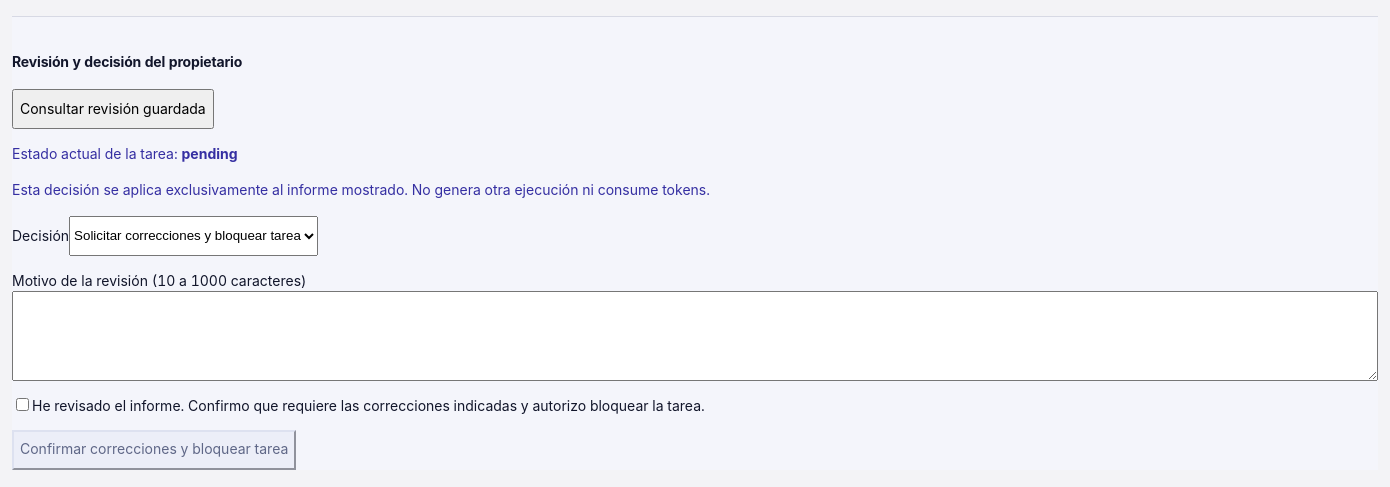
Test case: document work review › records an explicit decision and blocks double clicks (accept=false)
Type "Revisado el alcance y las conclusiones del informe" into the text box.
click(695, 336); type("Revisado el alcance y las conclusiones del informe")  # box 12,291 -> 1378,381
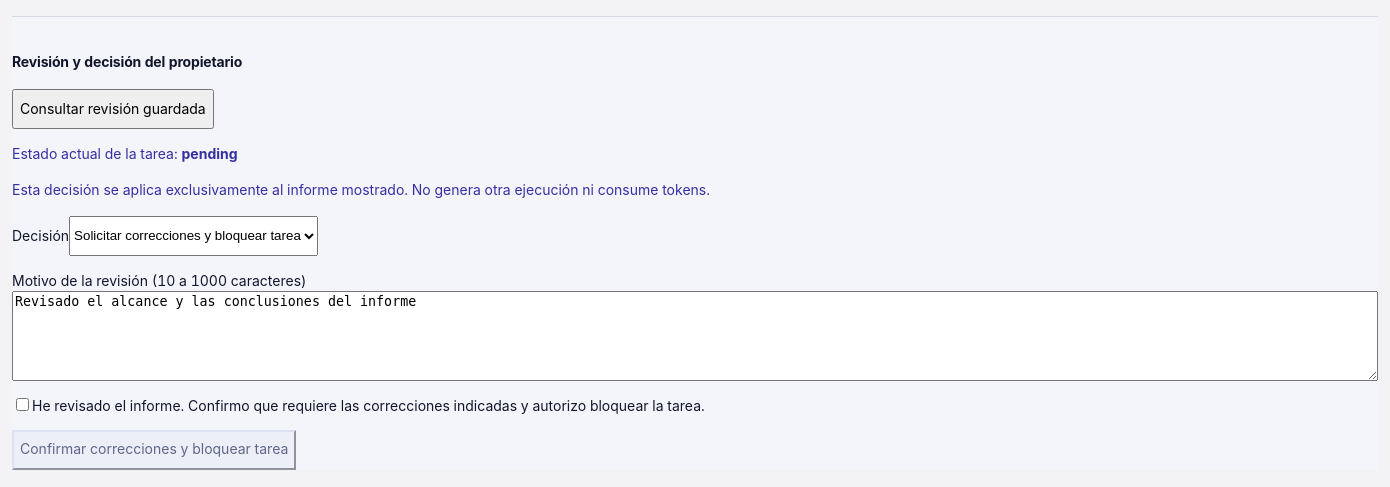
Click the checkbox.
click(22, 404)  # box 16,398 -> 29,411
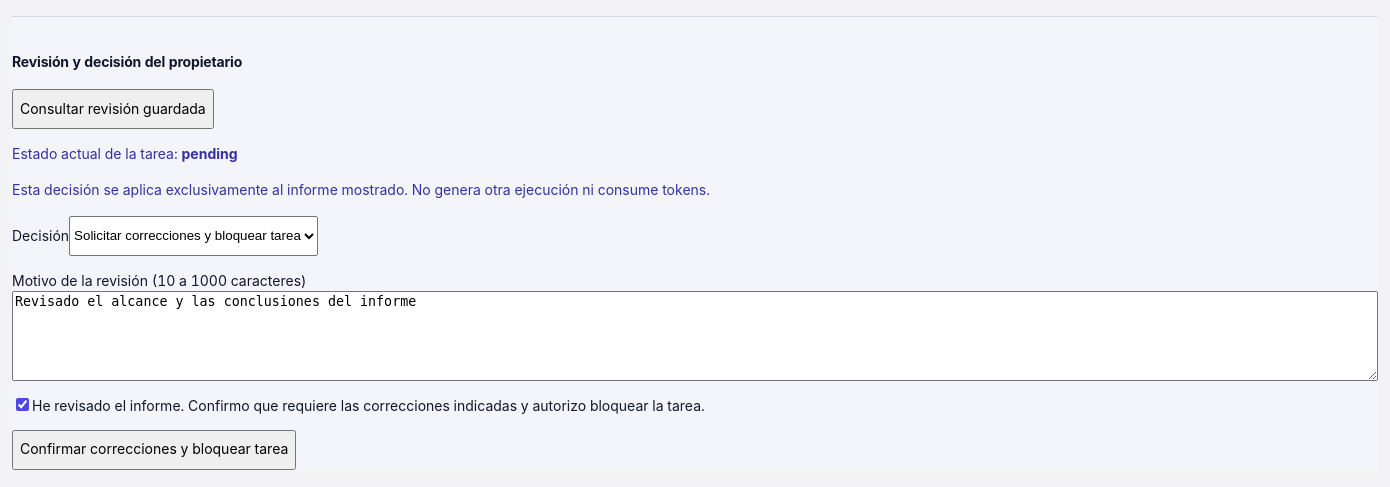
Click the button "Confirmar correcciones y bloquear tarea".
click(154, 450)  # box 12,430 -> 296,470
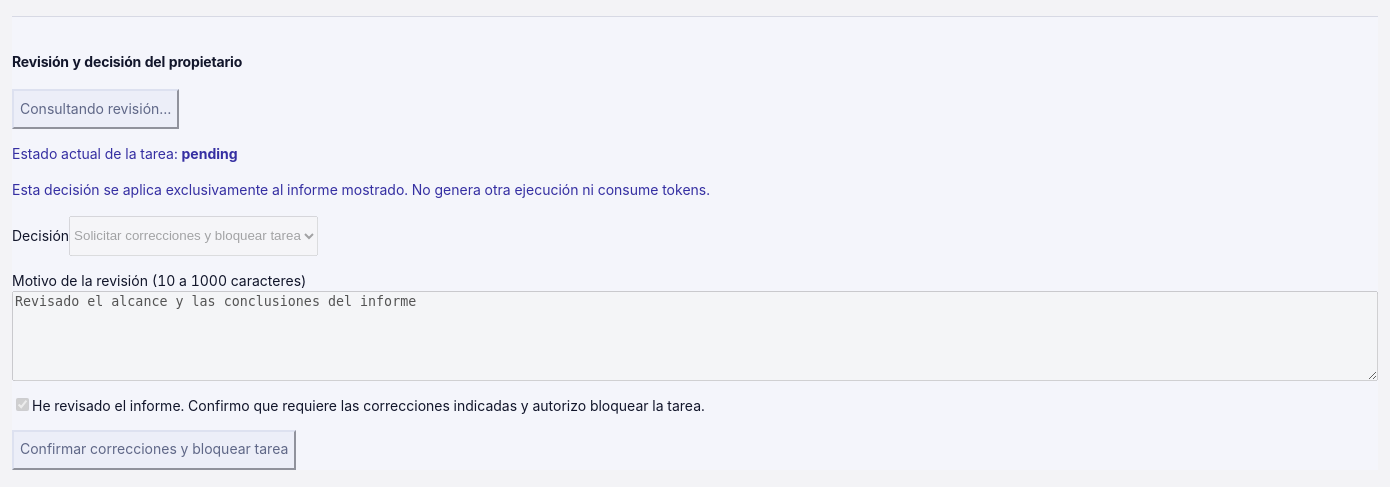
Click the button "Confirmar correcciones y bloquear tarea".
click(154, 450)  # box 12,430 -> 296,470
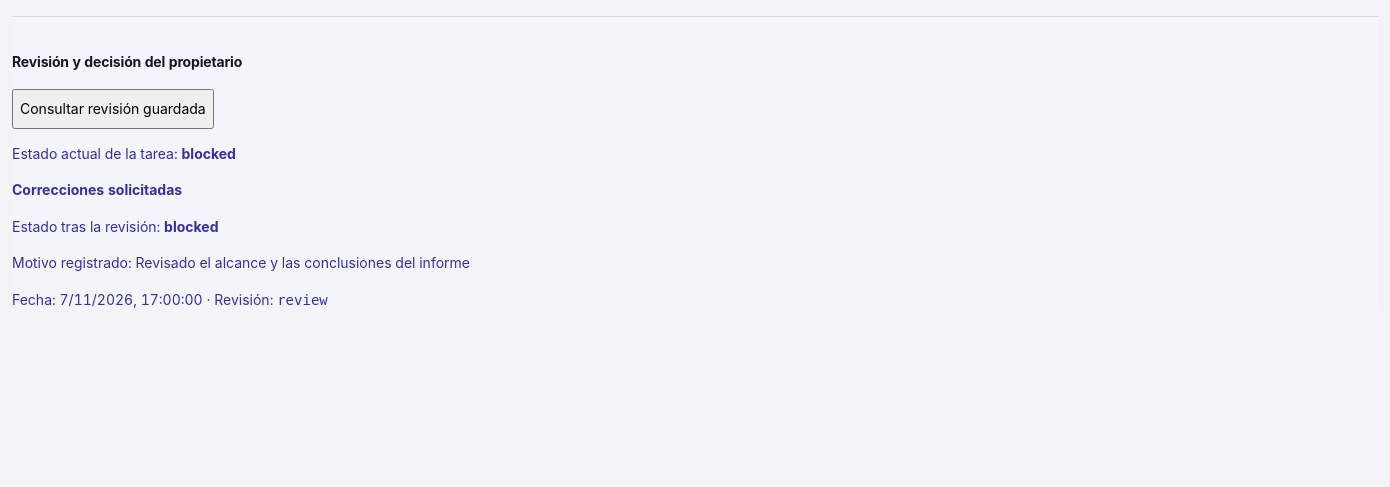
Result: the text "Correcciones solicitadas" is shown at 12,181 -> 182,198
